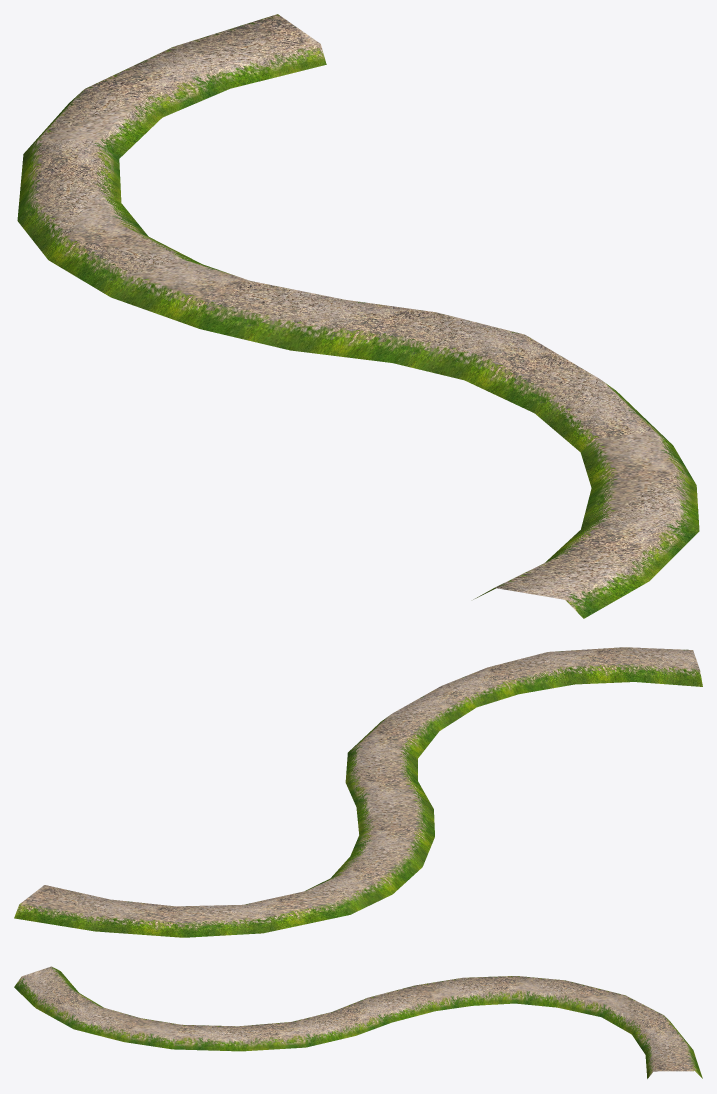
3 views of the same model, one above another, from view 1: azimuth 30°, elevation 25°; view 2: azimuth 150°, elevation 25°; view 3: azimuth 270°, elevation 25° (orthographic). The views are drawn at different scales.
Visible parts, largest first — view 1: rd_ro2; view 2: rd_ro2; view 3: rd_ro2.
Part boxes in pixels (box(x1,y1,x2,y2)): rd_ro2: box(17, 14, 699, 618); rd_ro2: box(14, 647, 702, 937); rd_ro2: box(14, 966, 702, 1078).
Size of the model in its own units: 17.84 by 0.8014 by 48.16.
1 material, 1 textured.
